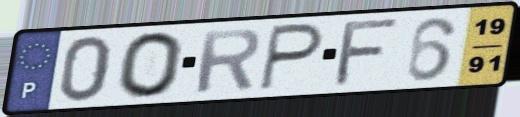0: (55, 33, 116, 104)
6: (404, 14, 460, 84)
F: (329, 16, 405, 89)
O: (115, 29, 187, 101)
P: (255, 21, 327, 93)
R: (193, 26, 264, 95)
